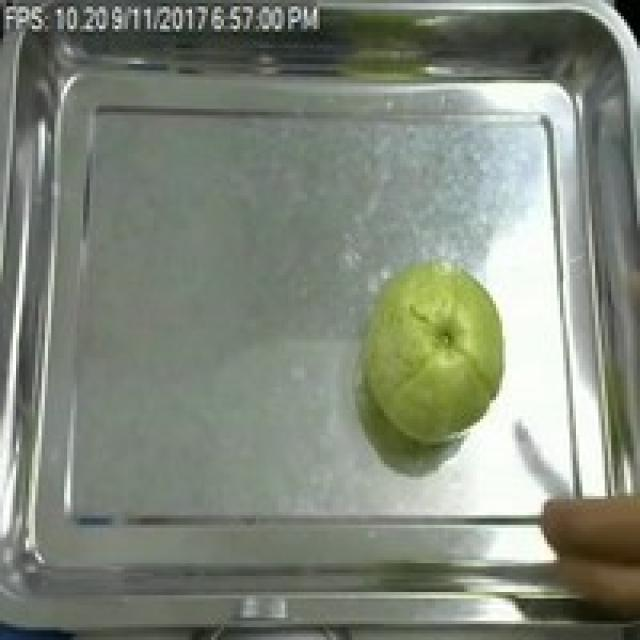Fruit: (349, 250, 518, 451)
